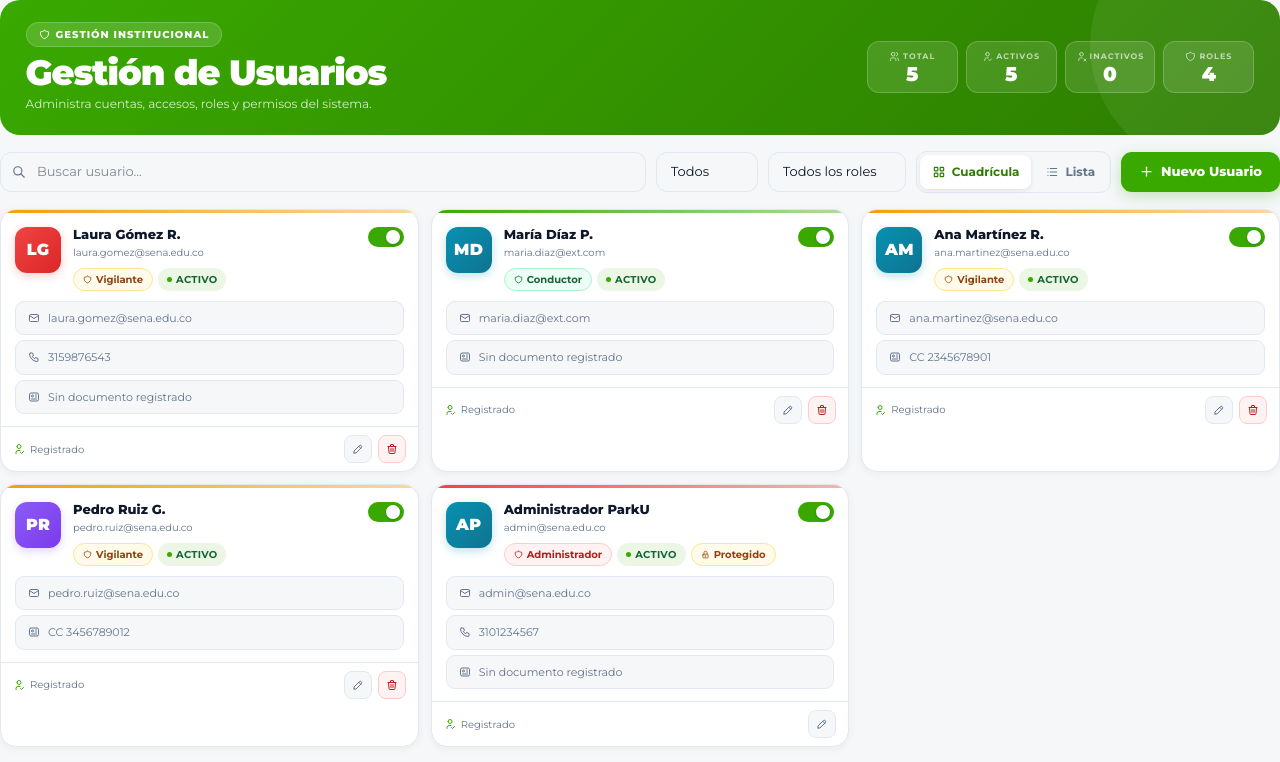
it: Usuarios › abre el modal de edición con los datos del usuario precargados
Check: the text "Ana Martínez R." is shown, box [934,226,1044,242]
Click the button named "Editar" below "CC 2345678901" at (1219, 410), box [1205,396,1233,424]
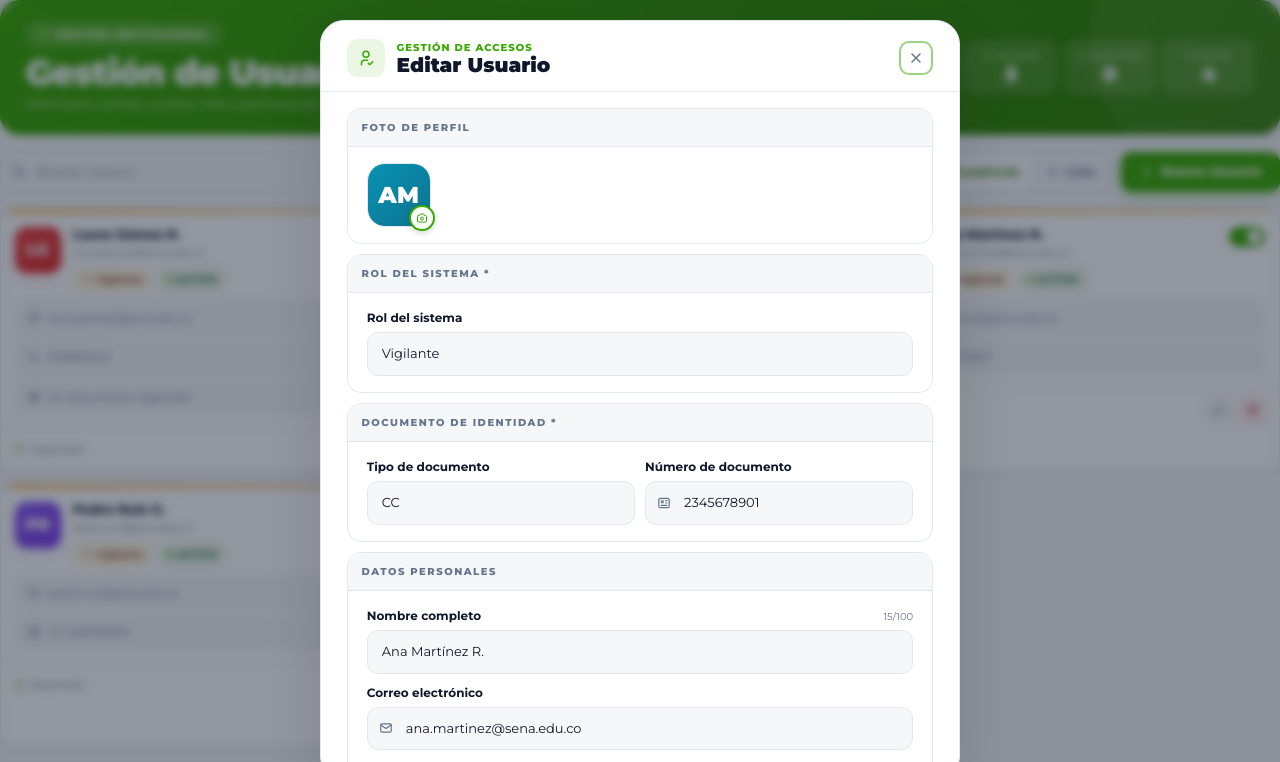
Check: the heading "Editar Usuario" is shown, box [397,55,550,75]
Check: the field showing "ana.martinez@sena.edu.co" below "Correo electrónico" is shown, box [367,707,913,750]
